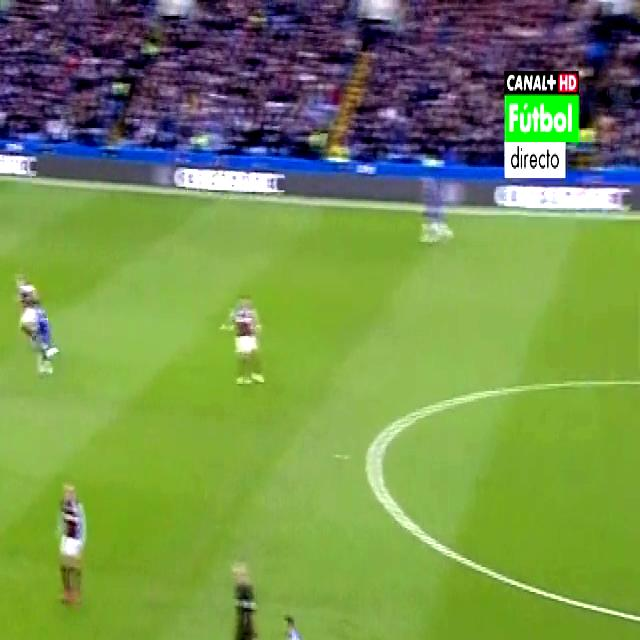referee: (219, 544, 265, 640)
soccer-player: (218, 276, 274, 399), (45, 469, 91, 614), (413, 161, 464, 258), (5, 256, 44, 366), (24, 299, 68, 390), (262, 601, 338, 640)
